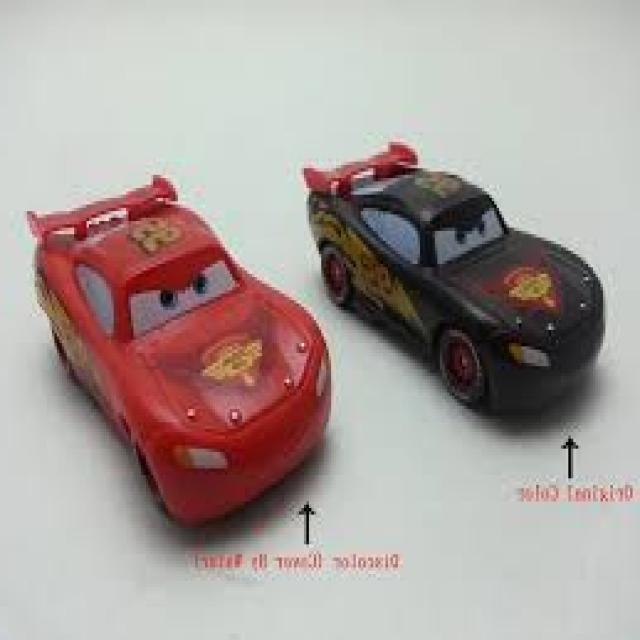Car: (30, 175, 331, 521), (304, 142, 603, 412)
